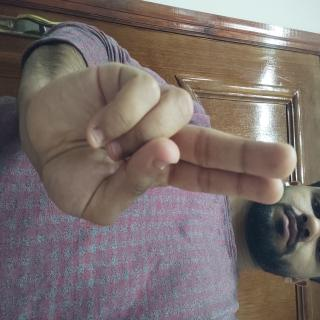TA: (46, 24, 171, 320)
